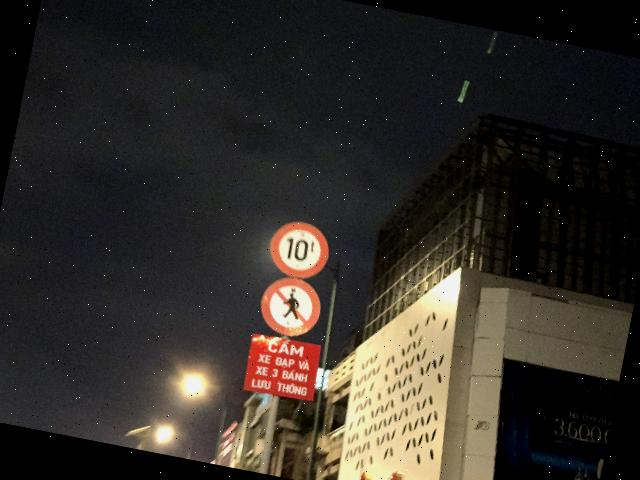cam-nguoi-di-bo: (254, 271, 325, 340)
han-che-trong-luong-xe: (264, 216, 333, 282)
